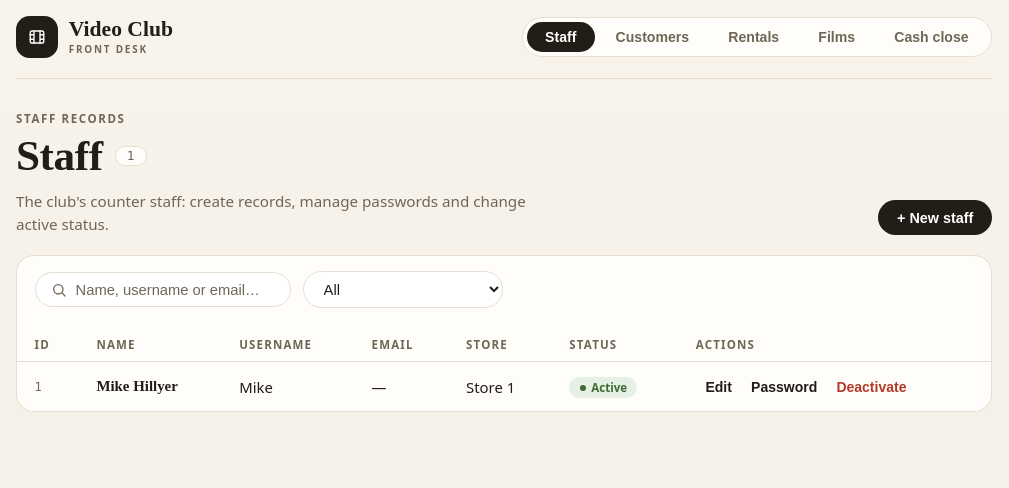
it: Rentals view › registers a return and moves the row out of the open filter
Click the tab "Rentals": (754, 37) [710,22,798,52]
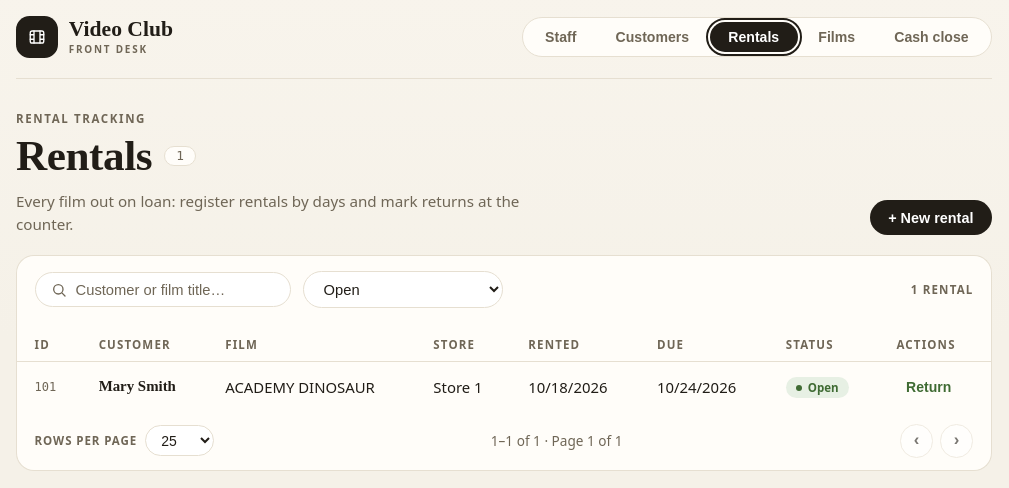
Check: the text "ACADEMY DINOSAUR" is shown, box [208,361,416,411]
Click the button "Return": (929, 387) [898,375,959,398]
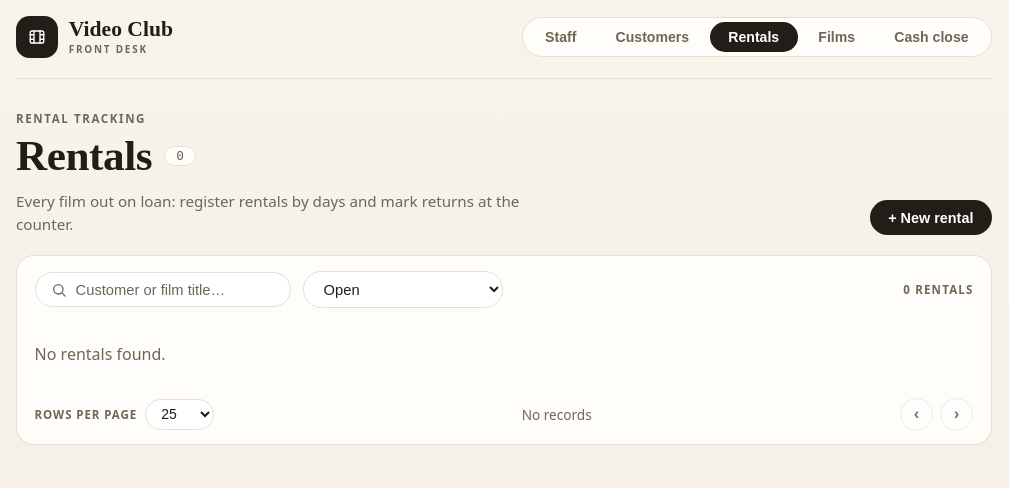
Check: the text "No rentals found." is shown, box [35,343,166,365]
Select "All" in the dropdown labelled "Status": (403, 290) [303,271,503,308]
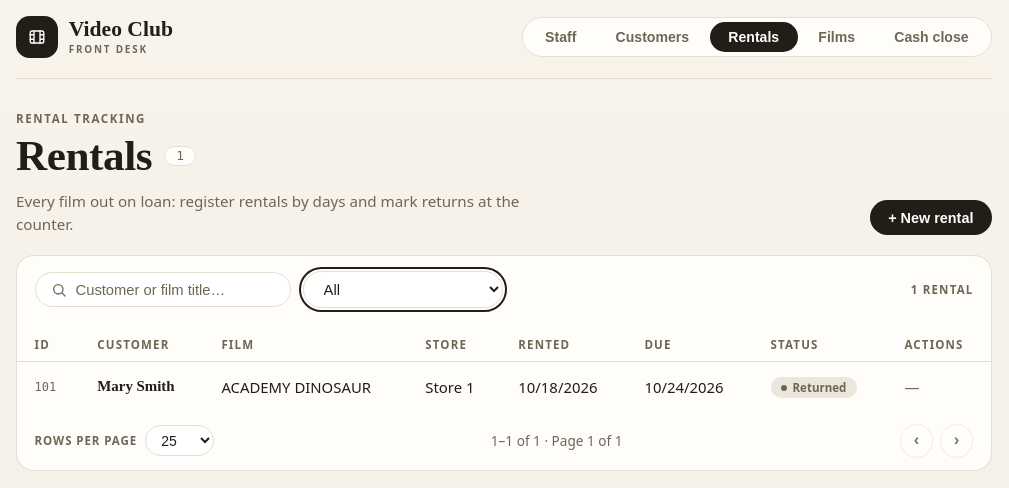
Check: the text "Returned" is shown, box [770,377,857,398]
